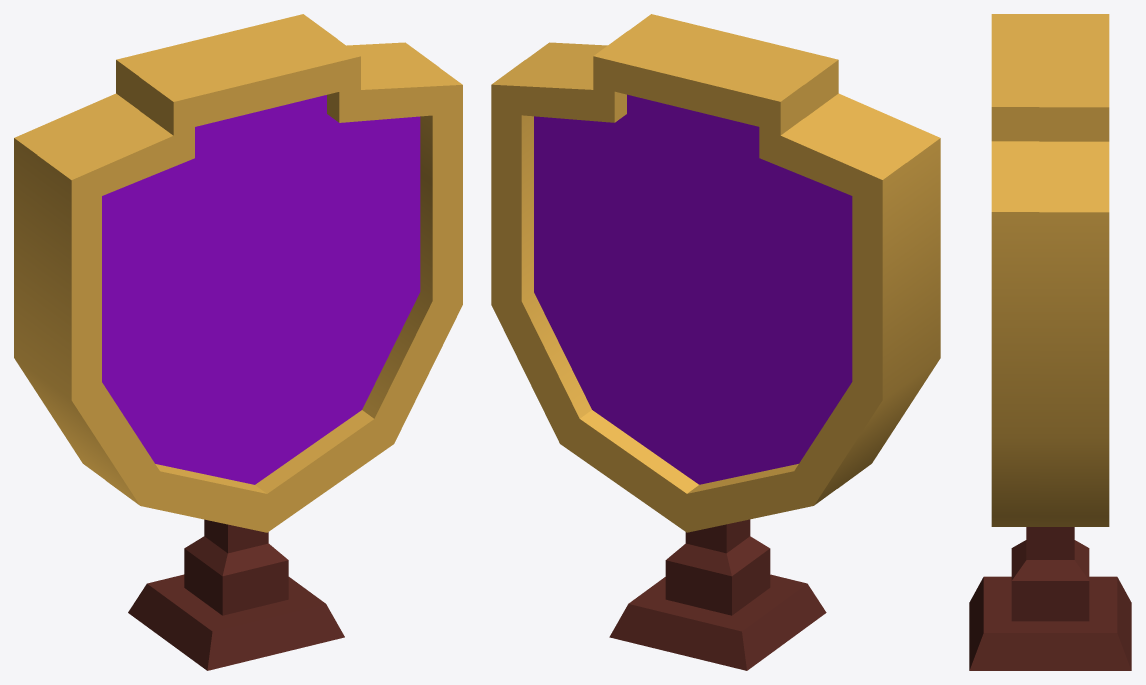
Rendered from block_tower.fbx.
3 views of the same model, side by side, from view 1: azimuth 30°, elevation 25°; view 2: azimuth 150°, elevation 25°; view 3: azimuth 270°, elevation 25° (orthographic).
Parts seen in each view (by area): view 1: Shield1; view 2: Shield1; view 3: Shield1.
Part boxes in pixels (bbox=[...]): Shield1: bbox=[14, 14, 462, 670]; Shield1: bbox=[491, 14, 940, 670]; Shield1: bbox=[969, 14, 1131, 670].
Size of the model in its own units: 404 by 559 by 142.
